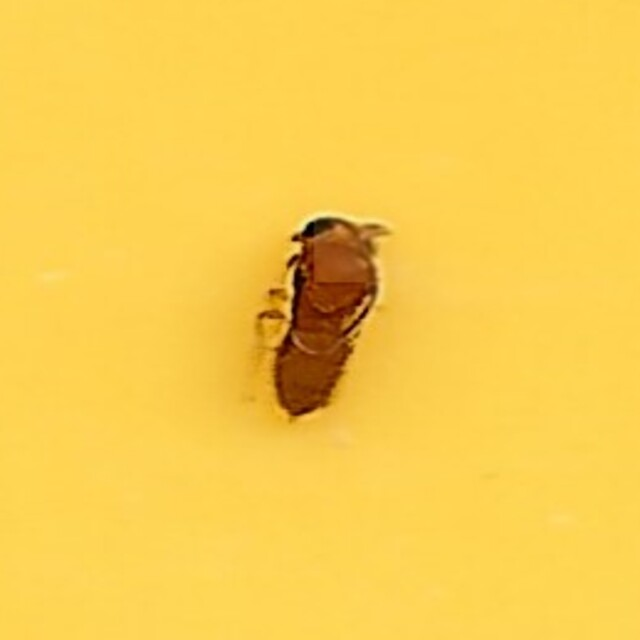Coleoptera: (247, 215, 393, 425)
